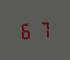seven: (35, 19, 50, 38)
six: (19, 21, 34, 40)
